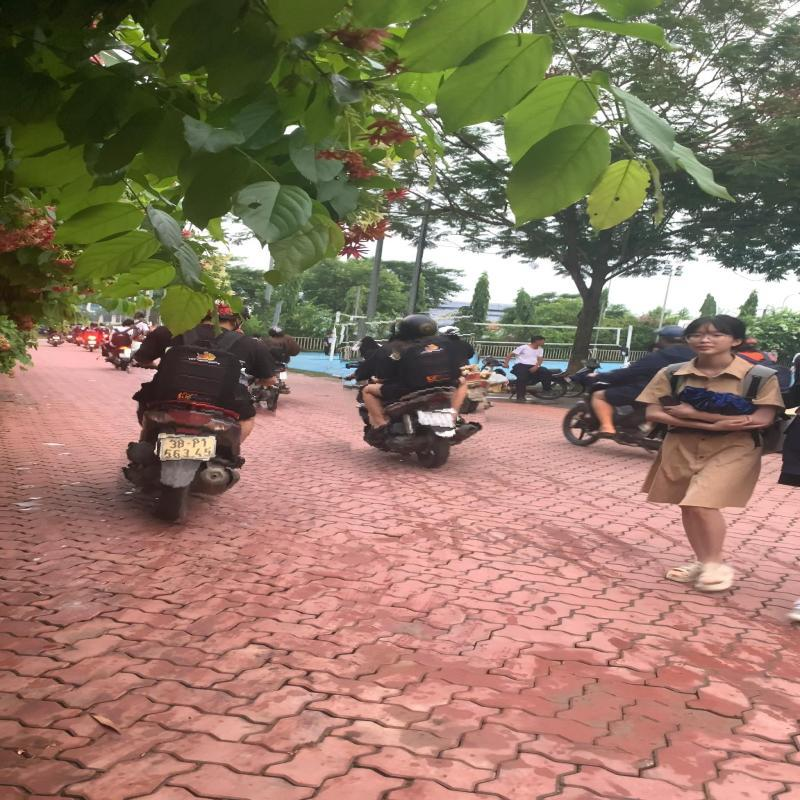helmet: (395, 313, 438, 336)
licenseplate: (156, 435, 218, 462), (415, 410, 457, 428)
motorcyclist: (119, 289, 282, 528), (340, 310, 486, 476)
